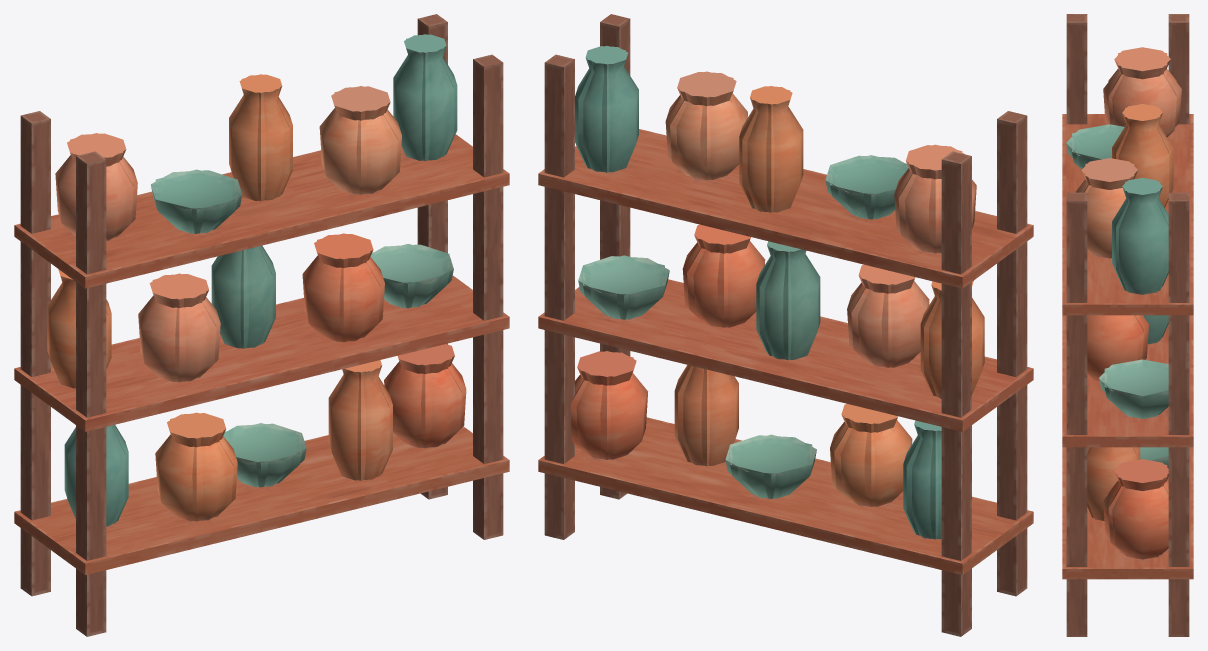
The model's file is pot_rack.bundle.fbx.
3 views of the same model, side by side, from view 1: azimuth 30°, elevation 25°; view 2: azimuth 150°, elevation 25°; view 3: azimuth 270°, elevation 25° (orthographic). The views are drawn at different scales.
Parts seen in each view (by area): view 1: pot_rack, pot_rack_low, pot_rack_s04, pot_rack_s01, pot_rack_s00, pot_rack_s07, pot_rack_s06, pot_rack_s05, pot_rack_s03; view 2: pot_rack, pot_rack_low, pot_rack_s04, pot_rack_s05, pot_rack_s02, pot_rack_s06, pot_rack_s03, pot_rack_s01, pot_rack_s07, pot_rack_s00; view 3: pot_rack, pot_rack_low, pot_rack_s04, pot_rack_s05, pot_rack_s07, pot_rack_s03, pot_rack_s00, pot_rack_s02.
Boxes of the visible parts, x1,y1,x2,y2 form: pot_rack: (14,14,509,636); pot_rack_low: (60,34,462,523); pot_rack_s04: (156,298,496,514); pot_rack_s01: (89,350,258,567); pot_rack_s00: (217,324,397,538); pot_rack_s07: (371,276,509,474); pot_rack_s06: (14,225,147,568); pot_rack_s05: (36,225,314,287); pot_rack_s03: (401,135,509,197); pot_rack: (538,14,1033,636); pot_rack_low: (570,46,962,539); pot_rack_s04: (538,328,833,543); pot_rack_s05: (762,188,1033,281); pot_rack_s02: (591,159,769,238); pot_rack_s06: (825,262,1032,574); pot_rack_s03: (538,129,668,197); pot_rack_s01: (809,338,1028,515); pot_rack_s07: (538,279,693,349); pot_rack_s00: (735,313,848,464); pot_rack: (1062,14,1193,636); pot_rack_low: (1072,47,1176,555); pot_rack_s04: (1062,381,1193,579); pot_rack_s05: (1062,114,1193,221); pot_rack_s07: (1062,384,1193,579); pot_rack_s03: (1062,260,1193,304); pot_rack_s00: (1062,315,1193,491); pot_rack_s02: (1062,206,1193,279).
Size of the model in its own units: 6.2 by 6.6 by 1.8.
Materials: 1 (1 with a texture image).
